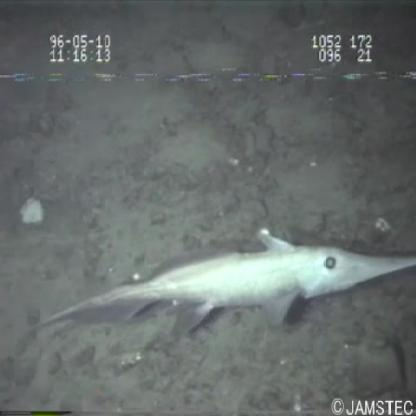Bio: (31, 228, 416, 338)
